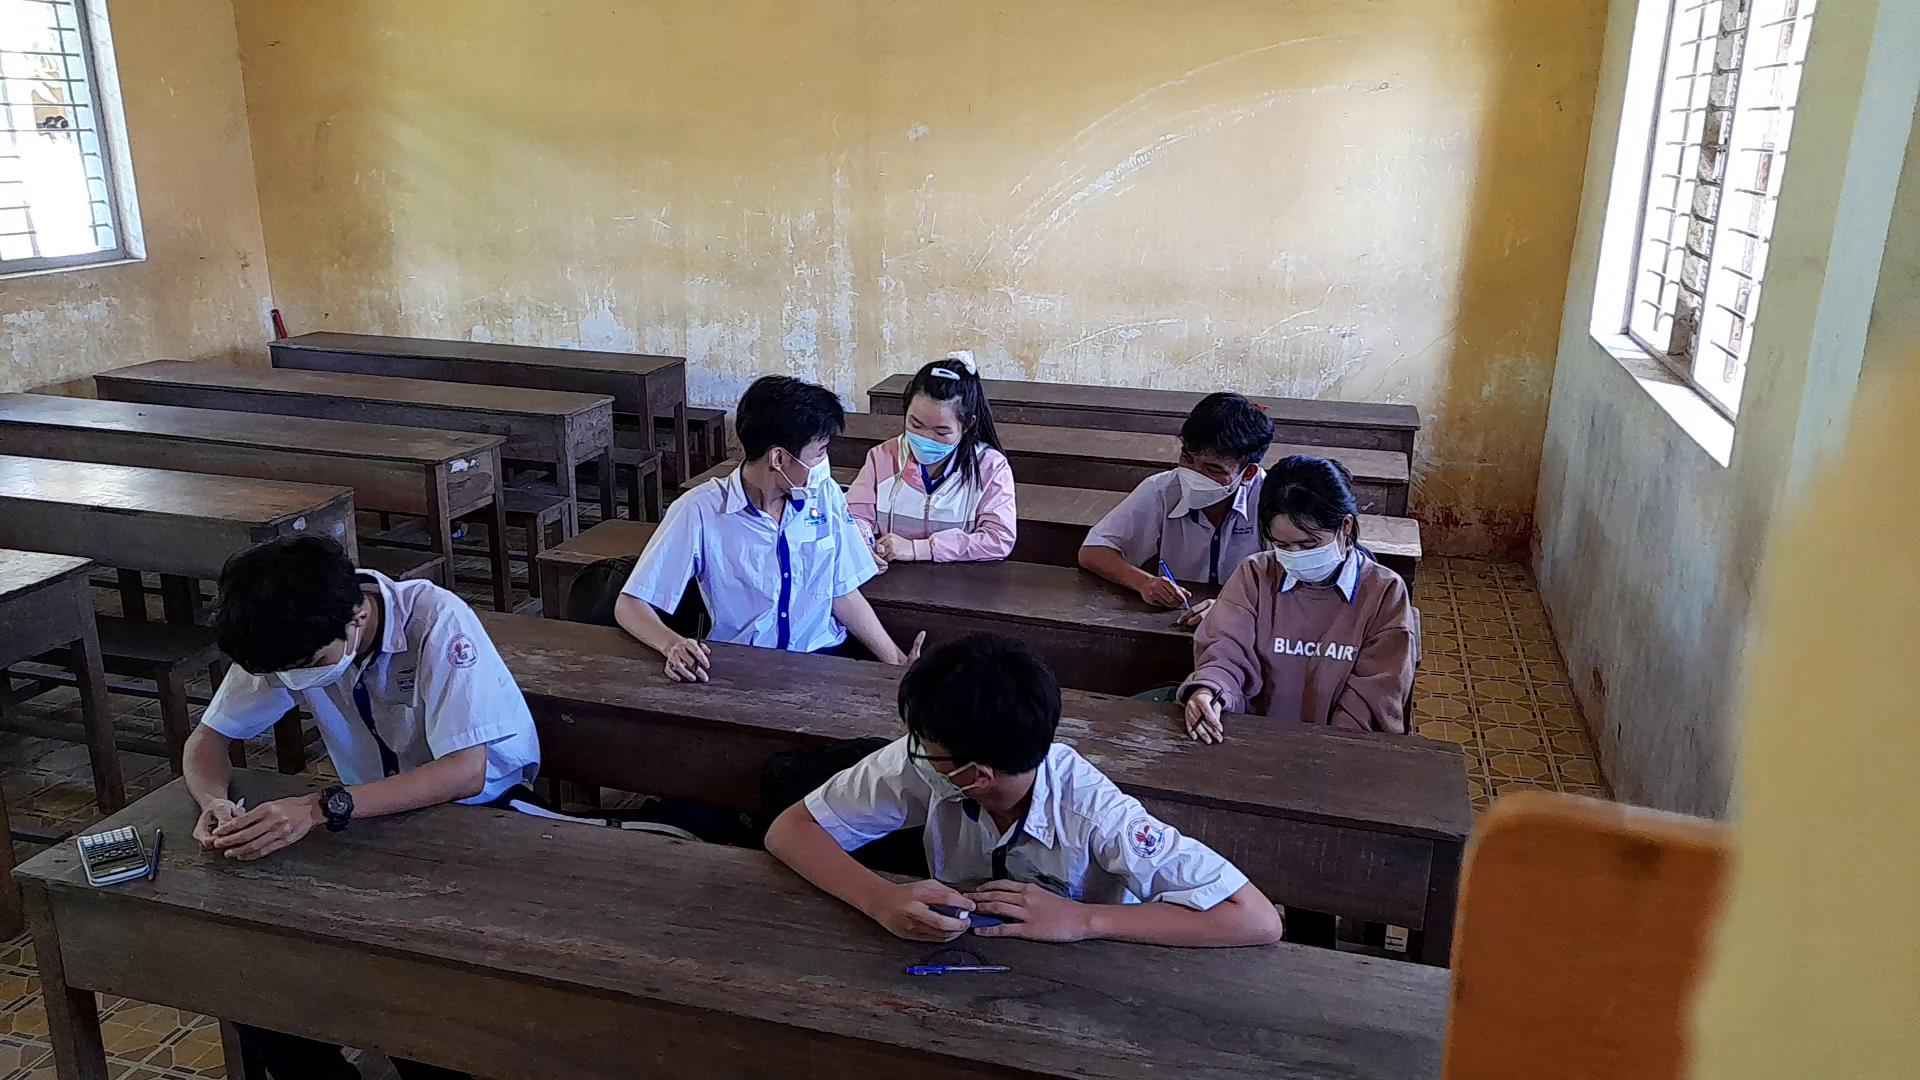Bend Over The Desk: (199, 527, 389, 703), (1215, 444, 1404, 618)
Hand Under Table: (808, 489, 928, 666), (1308, 564, 1427, 742)
Look Around: (1077, 361, 1276, 541), (676, 359, 874, 538), (876, 632, 1073, 810)
